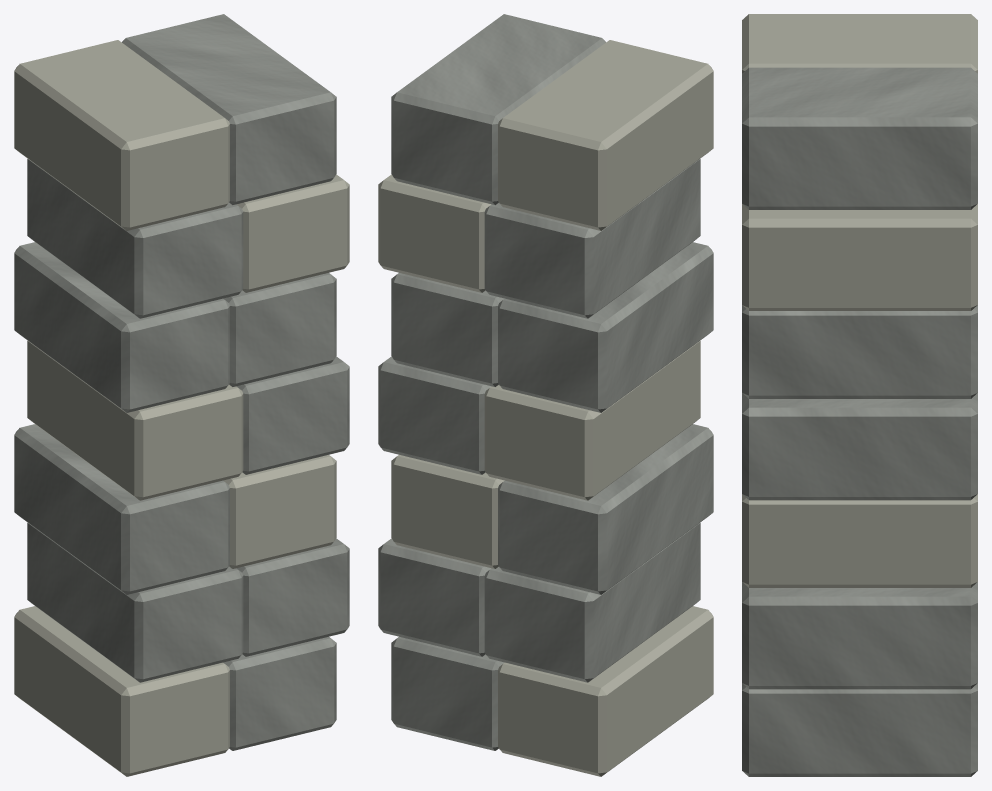
File: chimney_1p6m.glb
3 renders of one model, left to right at view 1: azimuth 30°, elevation 25°; view 2: azimuth 150°, elevation 25°; view 3: azimuth 270°, elevation 25°, orthographic. The views are drawn at different scales.
Parts seen in each view (by area): view 1: chimney_1p6m; view 2: chimney_1p6m; view 3: chimney_1p6m.
Part boxes in pixels (x1,y1,x2,y2): chimney_1p6m: (14,14,349,776); chimney_1p6m: (378,14,713,776); chimney_1p6m: (742,14,977,776).
Bounding box in the file's own units: 0.605 × 1.6 × 0.52.
2 materials, 1 textured.
